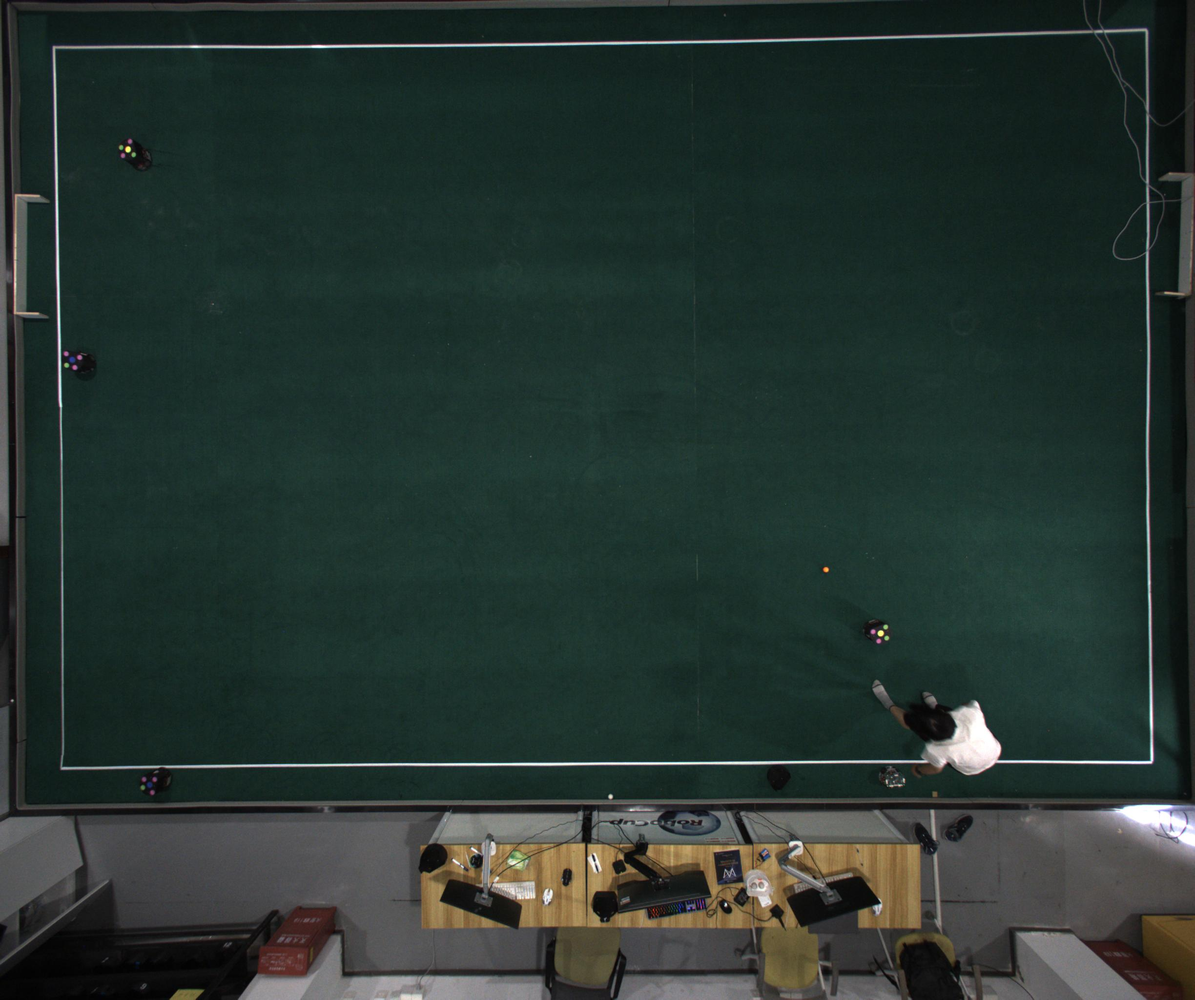ball: (823, 566, 830, 573)
blue_bot: (62, 350, 84, 371), (139, 776, 160, 796)
yellow_bot: (870, 623, 891, 644), (119, 139, 137, 161)
